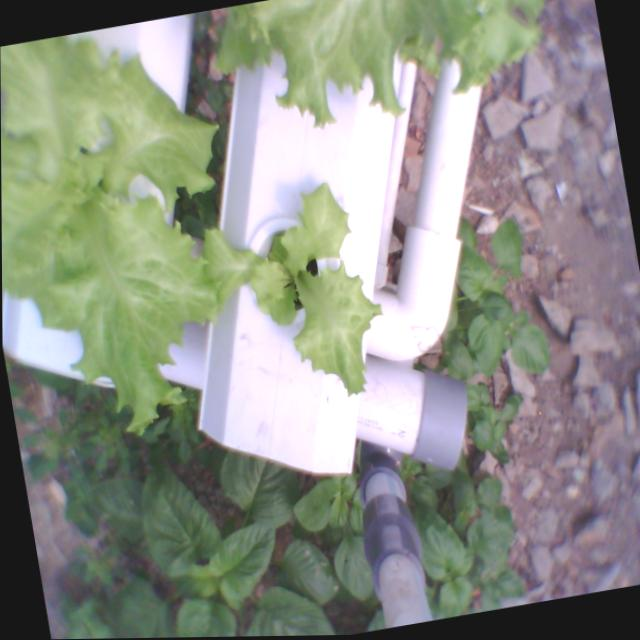FN: (0, 11, 270, 458), (180, 174, 398, 424)
